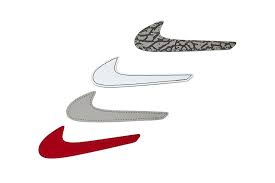nike: (130, 15, 242, 56), (28, 122, 144, 161), (64, 88, 171, 123), (91, 55, 196, 88)
